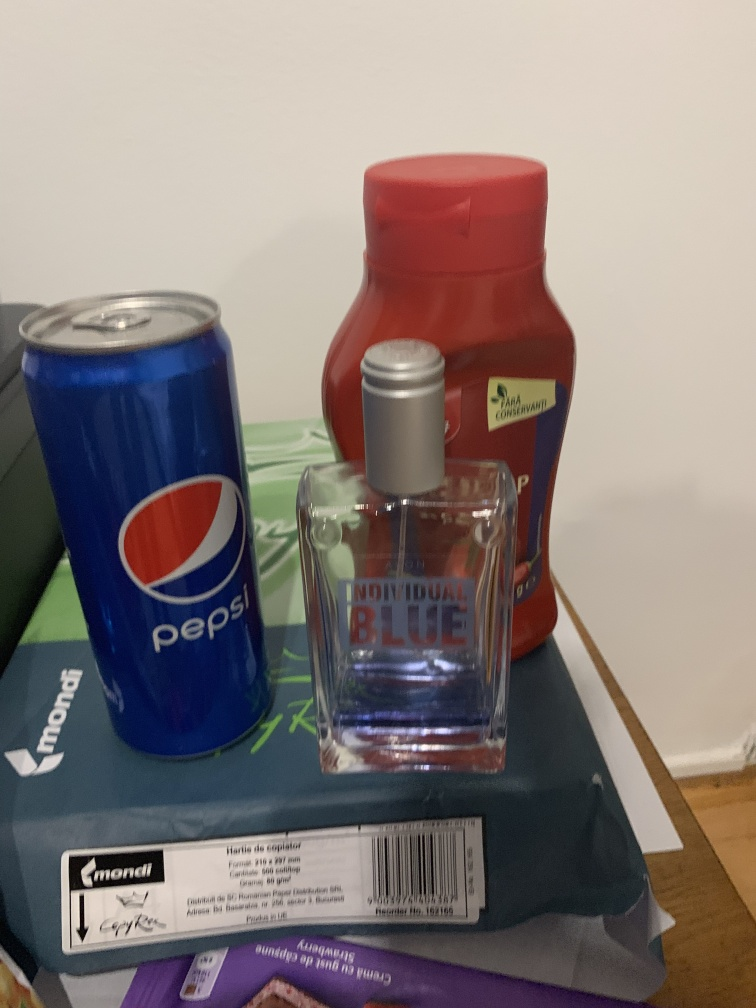ketchup: (318, 151, 578, 688)
milka: (114, 917, 657, 1008)
pepsi: (15, 290, 286, 763)
